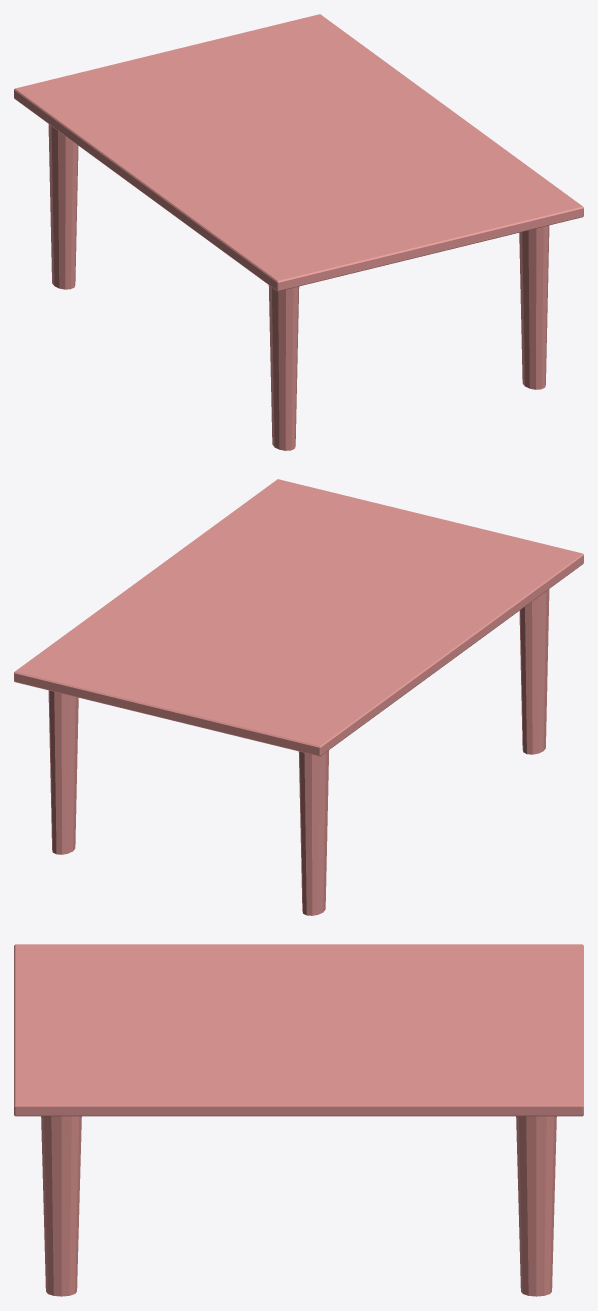
Rendered from stol.fbx.
The picture shows the model from 3 angles, top to bottom: view 1: azimuth 30°, elevation 25°; view 2: azimuth 150°, elevation 25°; view 3: azimuth 270°, elevation 25°; orthographic projection. The views are drawn at different scales.
Parts seen in each view (by area): view 1: stol; view 2: stol; view 3: stol.
Part boxes in pixels (x1,y1,x2,y2): stol: (14,14,583,450); stol: (14,479,583,915); stol: (14,944,583,1296).
Bounding box in the file's own units: 45.66 × 26.5 × 68.08.
